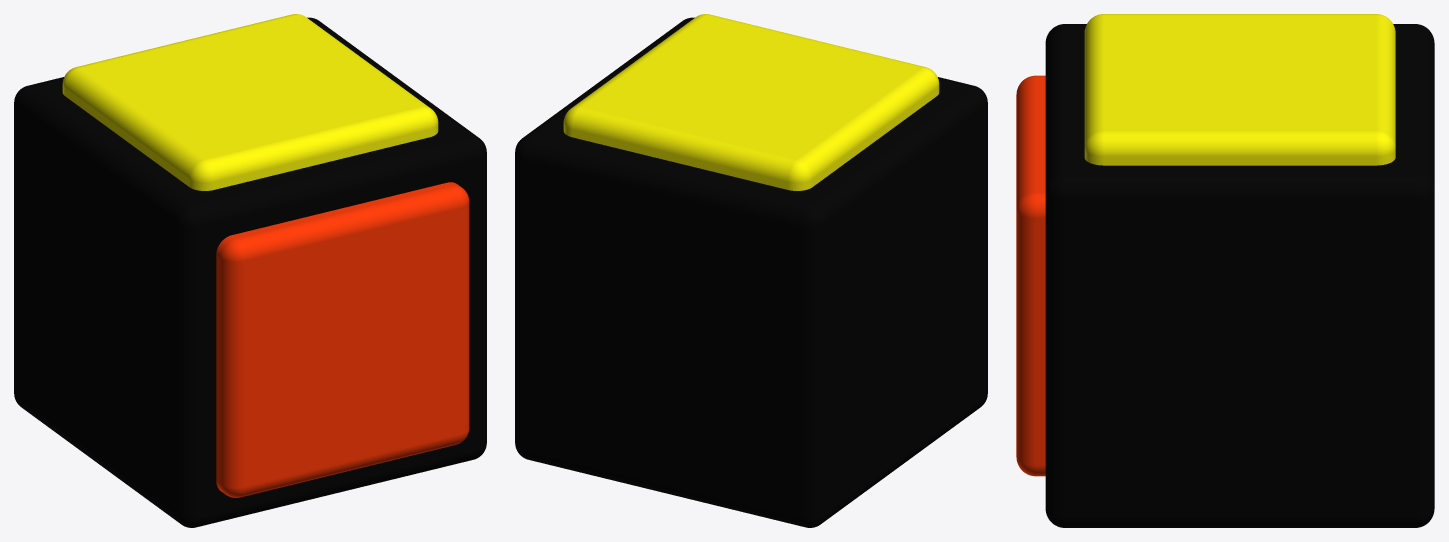
The model's file is cubinho(0, 1, 1).obj.
3 renders of one model, left to right at view 1: azimuth 30°, elevation 25°; view 2: azimuth 150°, elevation 25°; view 3: azimuth 270°, elevation 25°, orthographic. The views are drawn at different scales.
Visible parts, largest first — view 1: (0,_1,_1); view 2: (0,_1,_1); view 3: (0,_1,_1).
Boxes of the visible parts, x1,y1,x2,y2 form: (0,_1,_1): (14,14,486,527); (0,_1,_1): (515,14,987,527); (0,_1,_1): (1016,14,1434,527).
Bounding box in the file's own units: 2 × 2.15 × 2.15.
